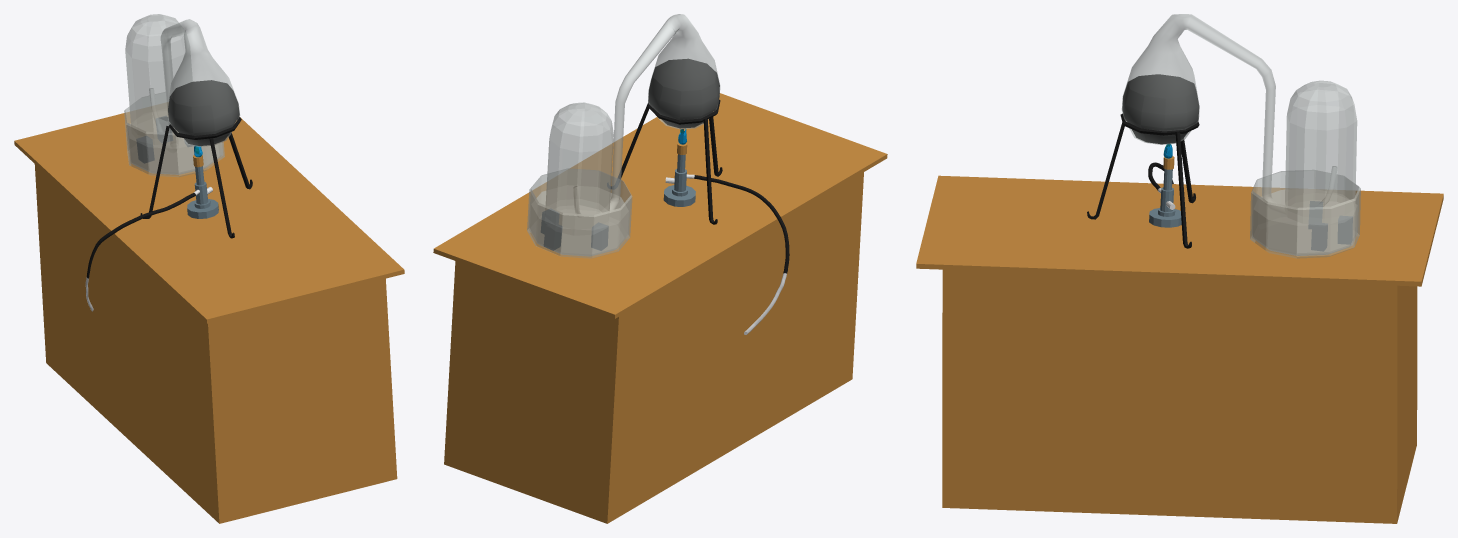
The model's file is Chemistry.fbx.
3 views of the same model, side by side, from view 1: azimuth 30°, elevation 25°; view 2: azimuth 150°, elevation 25°; view 3: azimuth 270°, elevation 25° (orthographic). The views are drawn at different scales.
Parts seen in each view (by area): view 1: model16:mesh1412540574, model16:mesh1321169551, model16:mesh316721406, model16:mesh496682563, model16:mesh838760574, model16:mesh183116916, model16:mesh2068460844, model16:mesh387404540; view 2: model16:mesh1412540574, model16:mesh1321169551, model16:mesh316721406, model16:mesh496682563, model16:mesh838760574, model16:mesh183116916, model16:mesh2068460844, model16:mesh16245820; view 3: model16:mesh1412540574, model16:mesh1321169551, model16:mesh316721406, model16:mesh496682563, model16:mesh838760574, model16:mesh183116916, model16:mesh1830734769.
Boxes of the visible parts, x1,y1,x2,y2 form: model16:mesh1412540574: (14, 112, 404, 523); model16:mesh1321169551: (149, 19, 239, 146); model16:mesh316721406: (125, 14, 192, 132); model16:mesh496682563: (124, 92, 224, 176); model16:mesh838760574: (168, 80, 239, 145); model16:mesh183116916: (128, 109, 221, 174); model16:mesh2068460844: (85, 193, 195, 311); model16:mesh387404540: (209, 138, 234, 238); model16:mesh1412540574: (433, 93, 887, 523); model16:mesh1321169551: (573, 14, 720, 213); model16:mesh316721406: (545, 102, 613, 235); model16:mesh496682563: (527, 168, 632, 258); model16:mesh838760574: (648, 58, 719, 128); model16:mesh183116916: (530, 185, 628, 256); model16:mesh2068460844: (694, 175, 789, 334); model16:mesh16245820: (703, 118, 717, 224); model16:mesh1412540574: (916, 175, 1443, 523); model16:mesh1321169551: (1121, 14, 1337, 206); model16:mesh316721406: (1285, 80, 1357, 207); model16:mesh496682563: (1250, 170, 1360, 258); model16:mesh838760574: (1122, 74, 1199, 144); model16:mesh183116916: (1253, 189, 1357, 255); model16:mesh1830734769: (1175, 132, 1191, 248).
Bounding box in the file's own units: 1.12 × 1.87 × 1.97.
